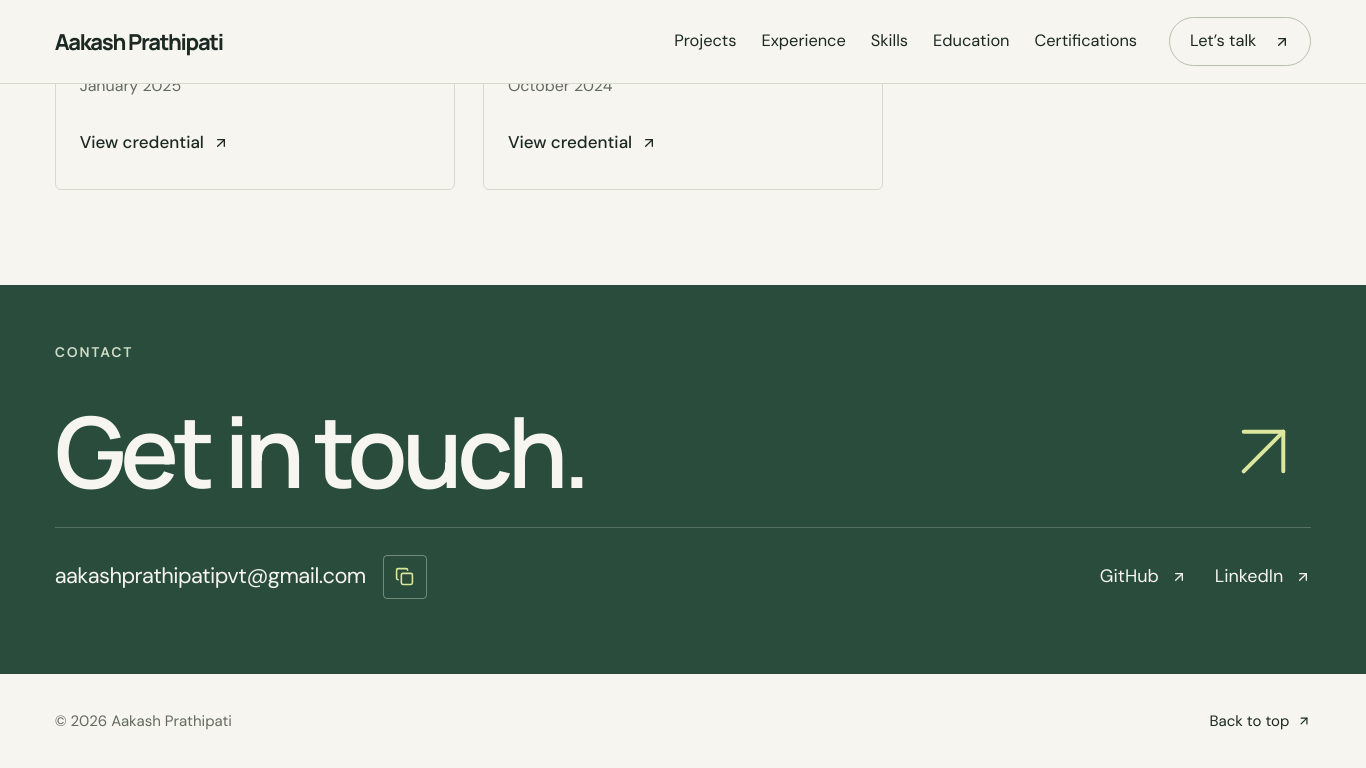
Scenario: portfolio navigation and contact › uses the supplied contact email and confirms copying
(page scrolled)
Click the button named "Copy email address" at [405, 577], box [383,555,427,599]
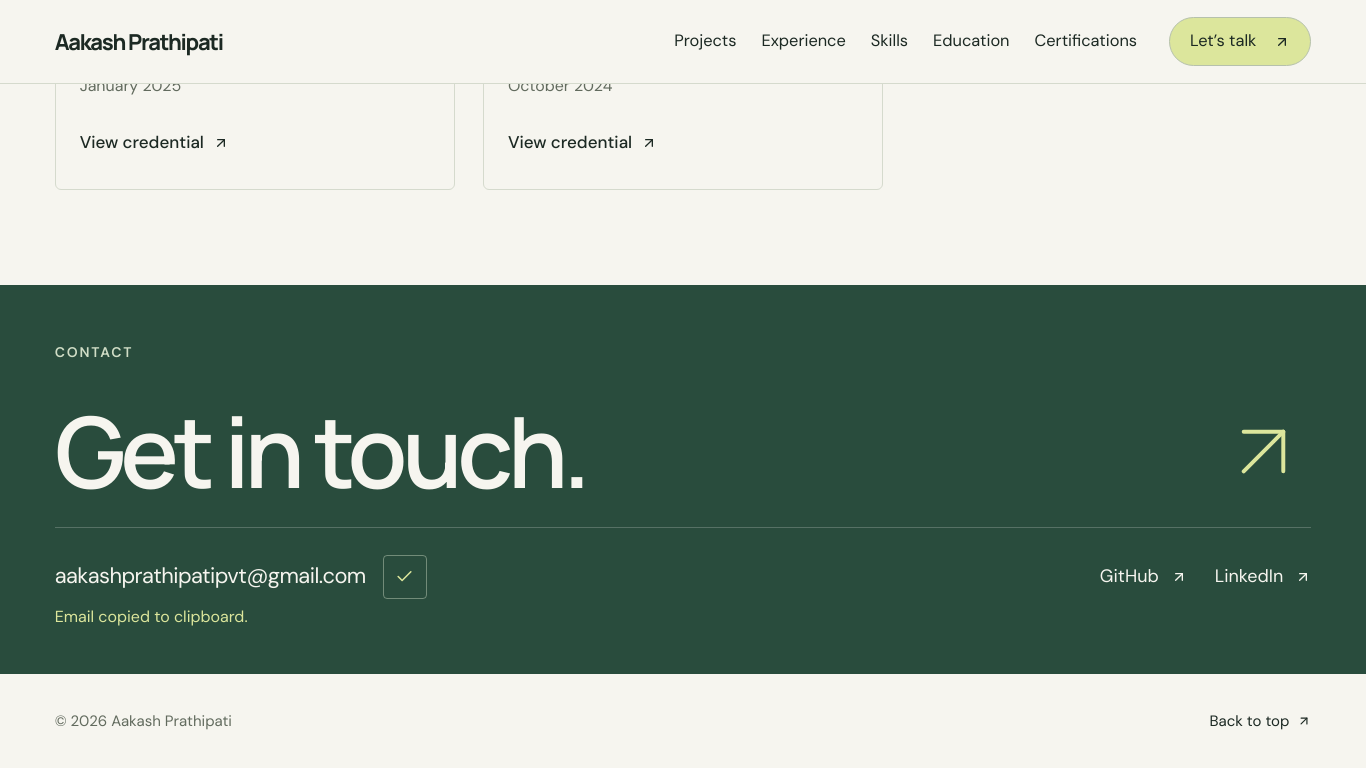
Expected: the text "Email copied to clipboard." is shown, [55,606,248,627]
